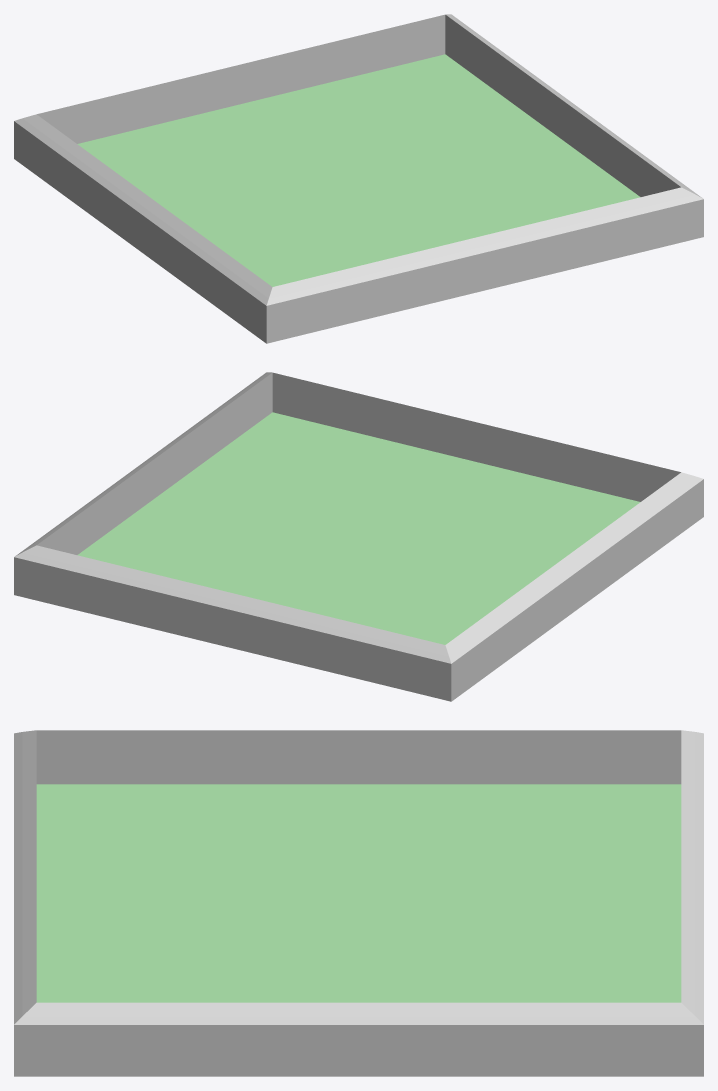
File: dice_tray_basic_square.glb
3 views of the same model, one above another, from view 1: azimuth 30°, elevation 25°; view 2: azimuth 150°, elevation 25°; view 3: azimuth 270°, elevation 25° (orthographic). The views are drawn at different scales.
Visible parts, largest first — view 1: DiceTraySquare; view 2: DiceTraySquare; view 3: DiceTraySquare.
Boxes of the visible parts, left/top/right/bottom form: DiceTraySquare: left=14, top=14, right=703, bottom=343; DiceTraySquare: left=14, top=372, right=703, bottom=701; DiceTraySquare: left=14, top=730, right=703, bottom=1076.
Size of the model in its own units: 2 by 0.2062 by 2.
